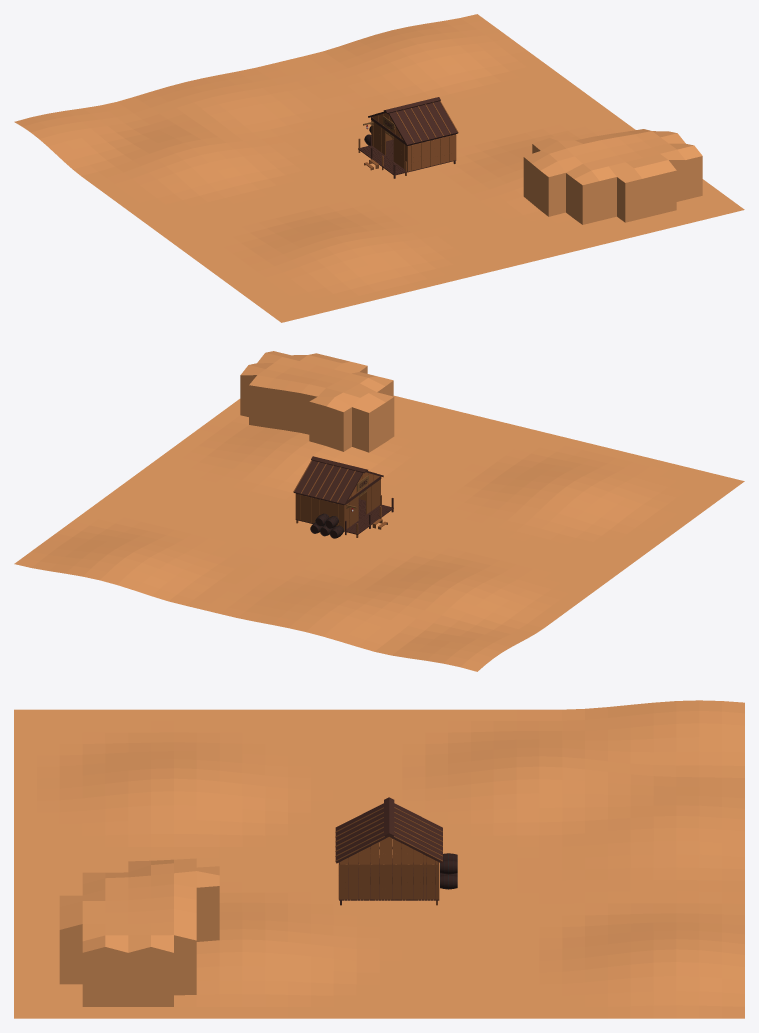
Rendered from SALOONTEST.fbx.
The picture shows the model from 3 angles, top to bottom: view 1: azimuth 30°, elevation 25°; view 2: azimuth 150°, elevation 25°; view 3: azimuth 270°, elevation 25°; orthographic projection. The views are drawn at different scales.
Parts seen in each view (by area): view 1: Plane, Cube.013, Cube.002; view 2: Plane, Cube.013, Cube.001; view 3: Plane, Cube.004, Cube.013, Cube.014, Cube.026.
Boxes of the visible parts, x1=… form: Plane: x1=14, y1=14, x2=744, y2=322; Cube.013: x1=368, y1=101, x2=457, y2=145; Cube.002: x1=408, y1=134, x2=456, y2=171; Plane: x1=14, y1=351, x2=744, y2=671; Cube.013: x1=293, y1=460, x2=383, y2=505; Cube.001: x1=295, y1=494, x2=343, y2=529; Plane: x1=14, y1=700, x2=744, y2=1018; Cube.004: x1=339, y1=864, x2=438, y2=899; Cube.013: x1=335, y1=803, x2=442, y2=863; Cube.014: x1=339, y1=837, x2=438, y2=864; Cube.026: x1=335, y1=807, x2=442, y2=861.
Bounding box in the file's own units: 6735 × 747 × 6735.
